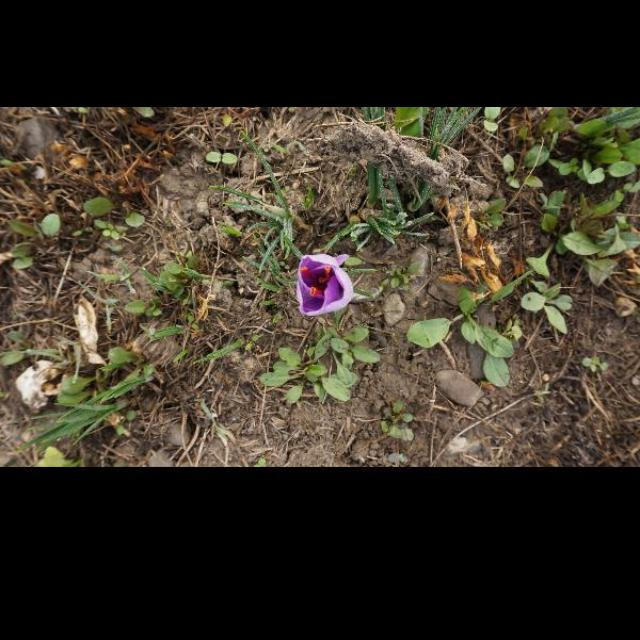flower: (297, 254, 353, 318)
